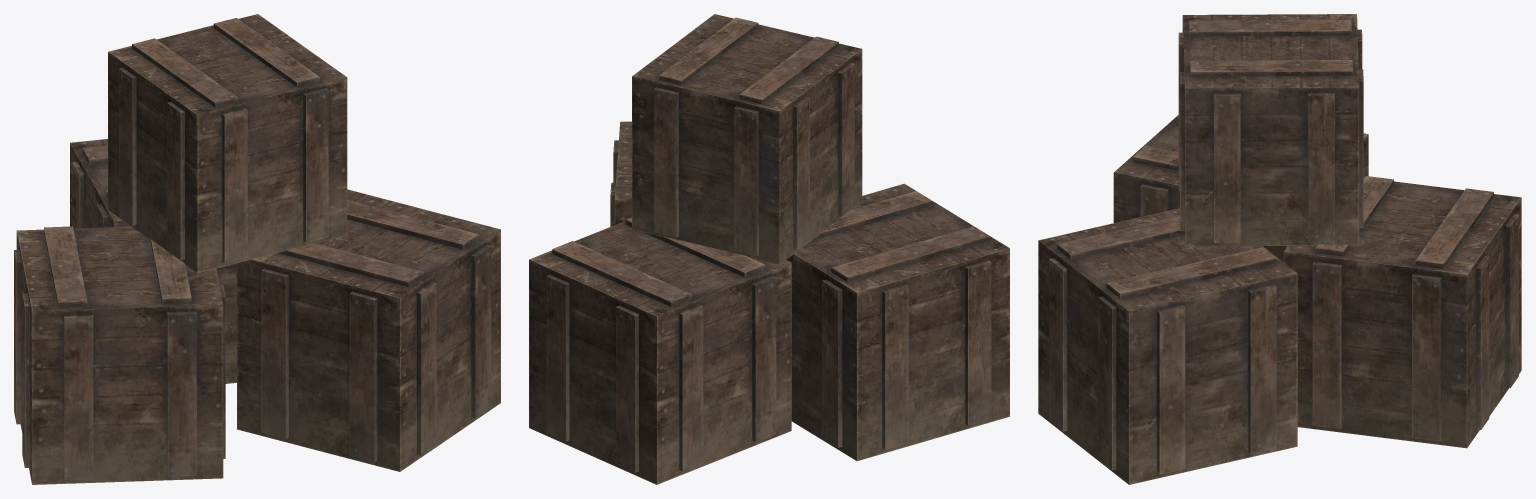
File: SHO_No_Stand_D_CrateSet_2-transformed.glb
3 renders of one model, left to right at view 1: azimuth 30°, elevation 25°; view 2: azimuth 150°, elevation 25°; view 3: azimuth 270°, elevation 25°, orthographic. The views are drawn at different scales.
Visible parts, largest first — view 1: default; view 2: default; view 3: default.
Part boxes in pixels (<box>): default: <box>14,14,500,484</box>; default: <box>529,14,1009,484</box>; default: <box>1038,14,1521,484</box>.
Size of the model in its own units: 1.78 by 1.33 by 1.72.
1 material, 1 textured.
